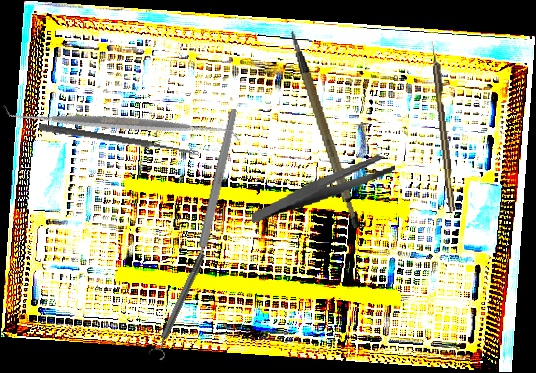Dressing Forceps: (246, 153, 400, 224)
Fixation Ring: (146, 250, 212, 362)
Hook Surgical: (430, 40, 456, 212)
Scalpel Handle: (289, 24, 364, 234), (191, 108, 239, 276)
Spatula Surgical: (1, 4, 243, 243)
Surgical Spoon: (38, 123, 200, 157)
